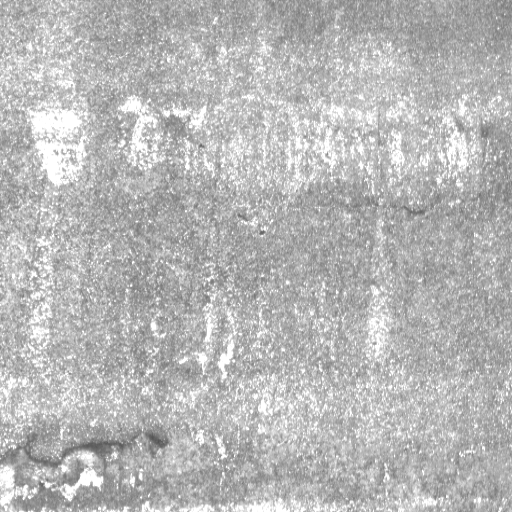qiaopi: (2, 431, 169, 508)
